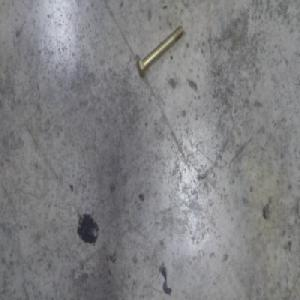Bolt: (135, 24, 185, 78)
